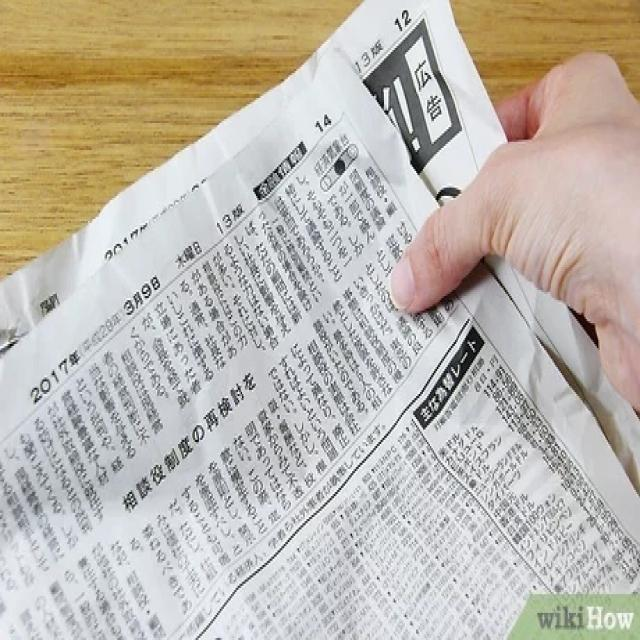Papel: (0, 0, 640, 640)
